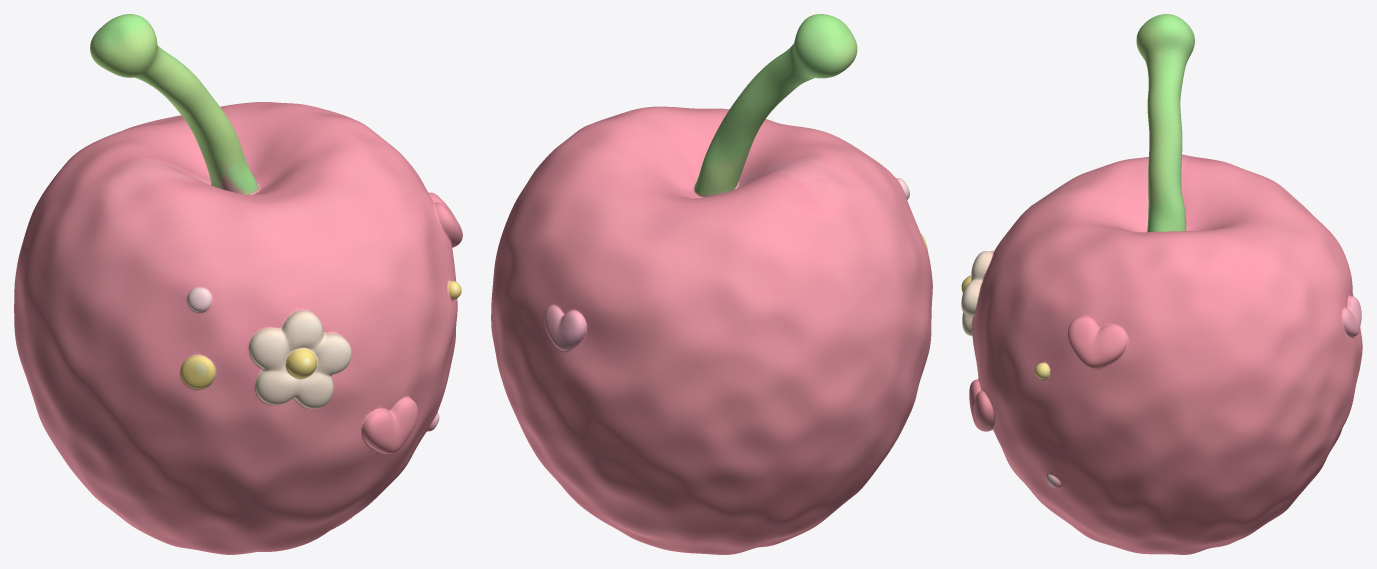
Rendered from Meshy_AI_Pink_Blossom_Apple_0601103340_texture.fbx.
The picture shows the model from 3 angles, left to right: view 1: azimuth 30°, elevation 25°; view 2: azimuth 150°, elevation 25°; view 3: azimuth 270°, elevation 25°; orthographic projection. The views are drawn at different scales.
Parts seen in each view (by area): view 1: Mesh_0; view 2: Mesh_0; view 3: Mesh_0.
Boxes of the visible parts, left/top/right/bottom form: Mesh_0: left=14, top=14, right=462, bottom=554; Mesh_0: left=491, top=14, right=932, bottom=554; Mesh_0: left=961, top=14, right=1362, bottom=554.
Size of the model in its own units: 141 by 190 by 147.
Materials: 1 (1 with a texture image).
